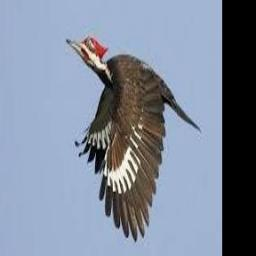Woodpecker: (67, 35, 201, 242)
